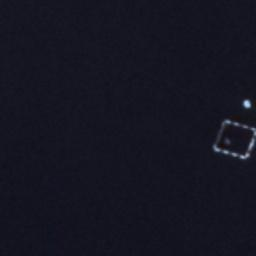square_solid: (210, 116, 256, 163)
